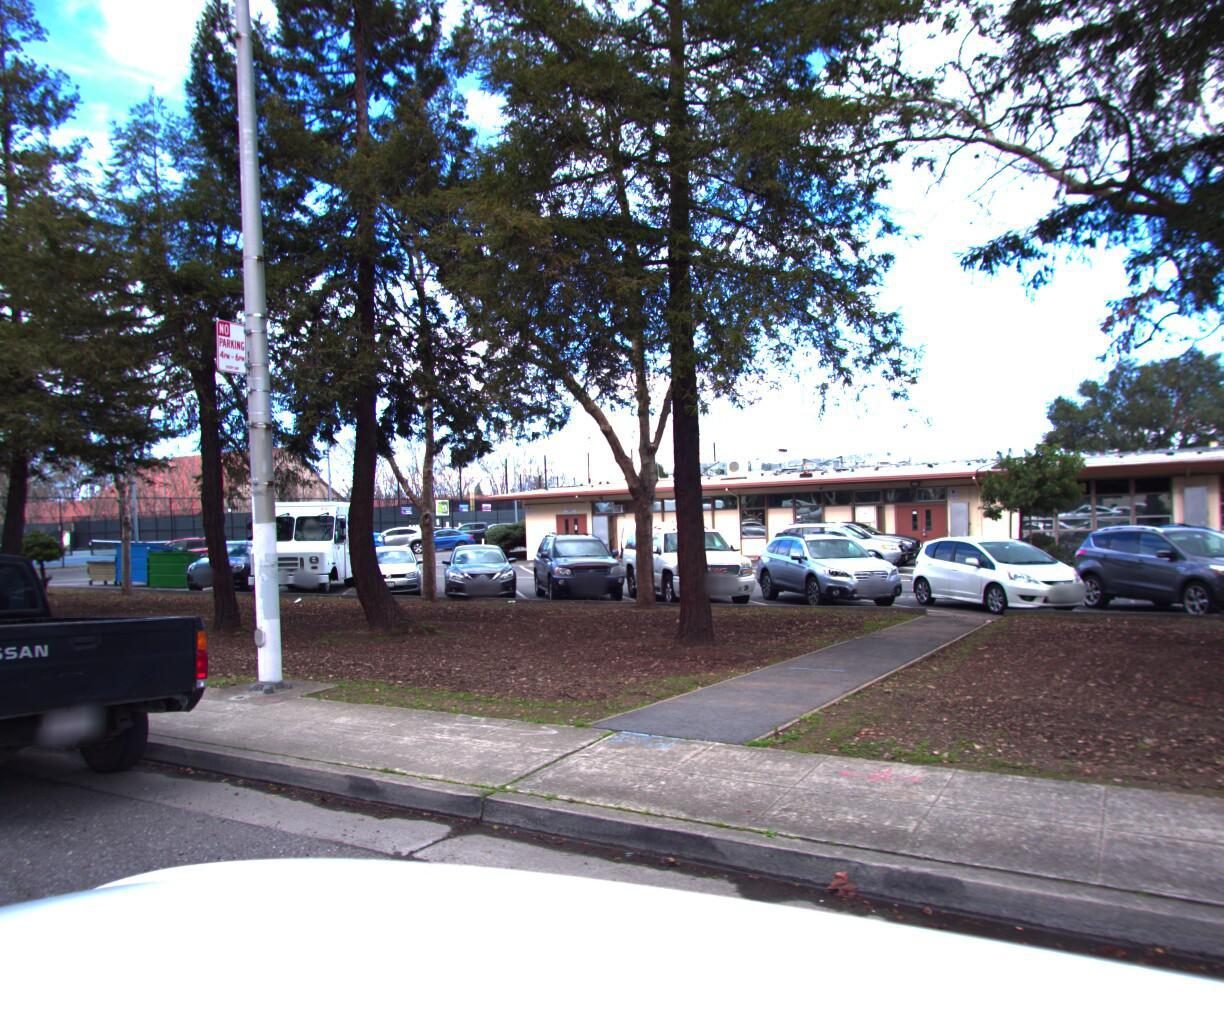car: (0, 533, 230, 877)
